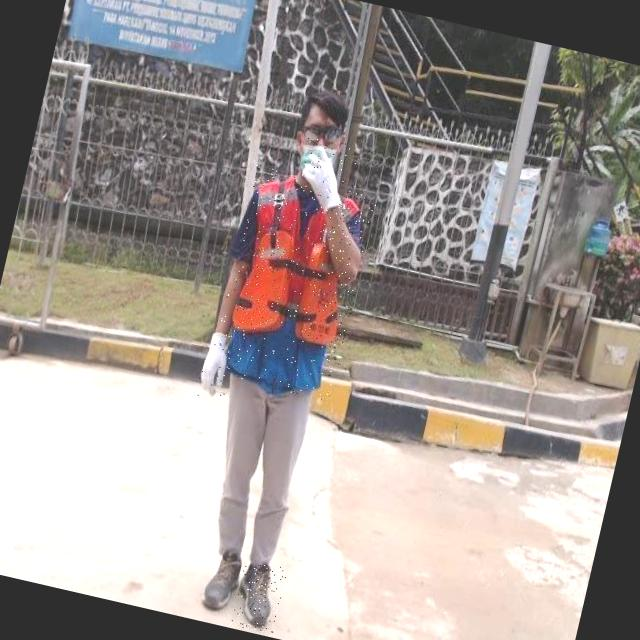gloves: (289, 132, 359, 226), (188, 324, 245, 406)
no-boots: (230, 557, 288, 634), (194, 544, 248, 616)
no-helmet: (272, 85, 376, 209)
vest: (208, 165, 378, 402)
